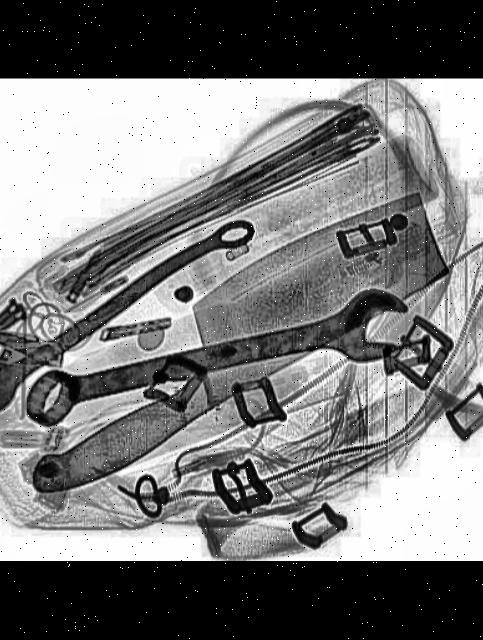Knife: (0, 177, 477, 505)
Wrench: (10, 282, 420, 428), (0, 204, 265, 422)
